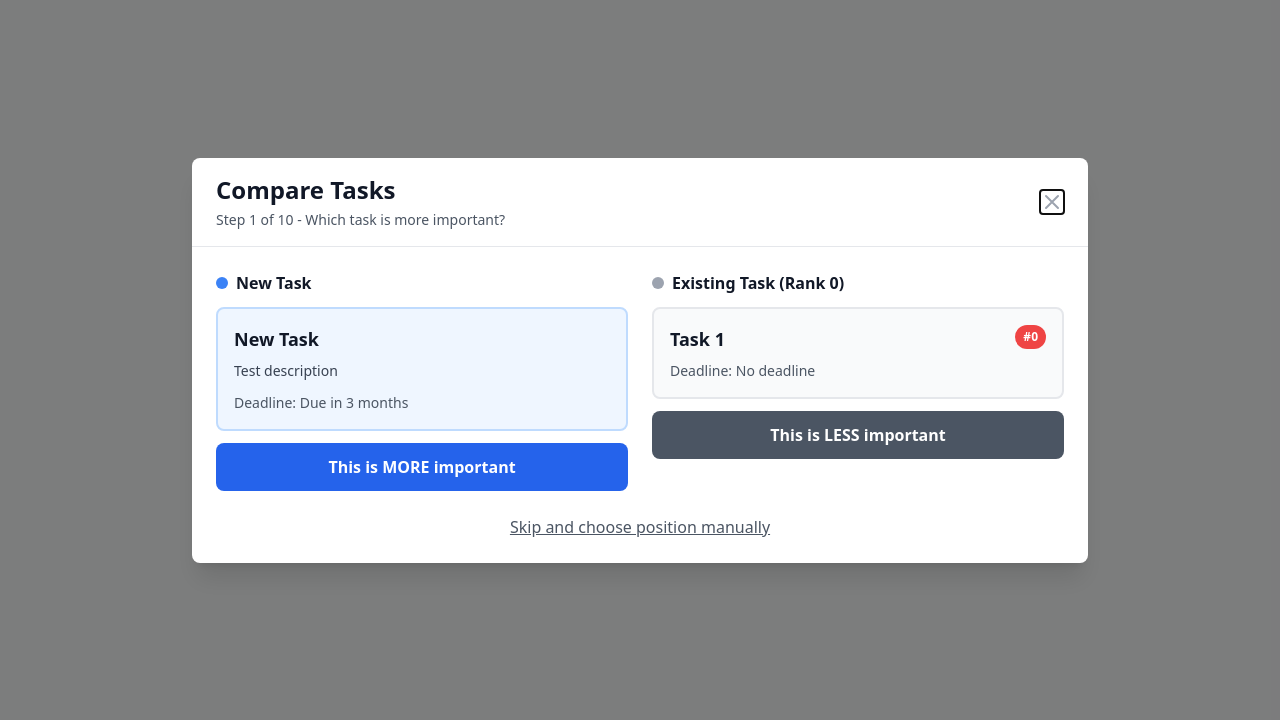
it: ComparisonModal Integration Tests › Comparison Workflow › should allow user to skip to manual placement
Expected: the heading "Compare Tasks" is shown, [216,172,396,206]
Click skip button
Click the button with test id "skip-button" at (640, 526), box [510,514,770,538]
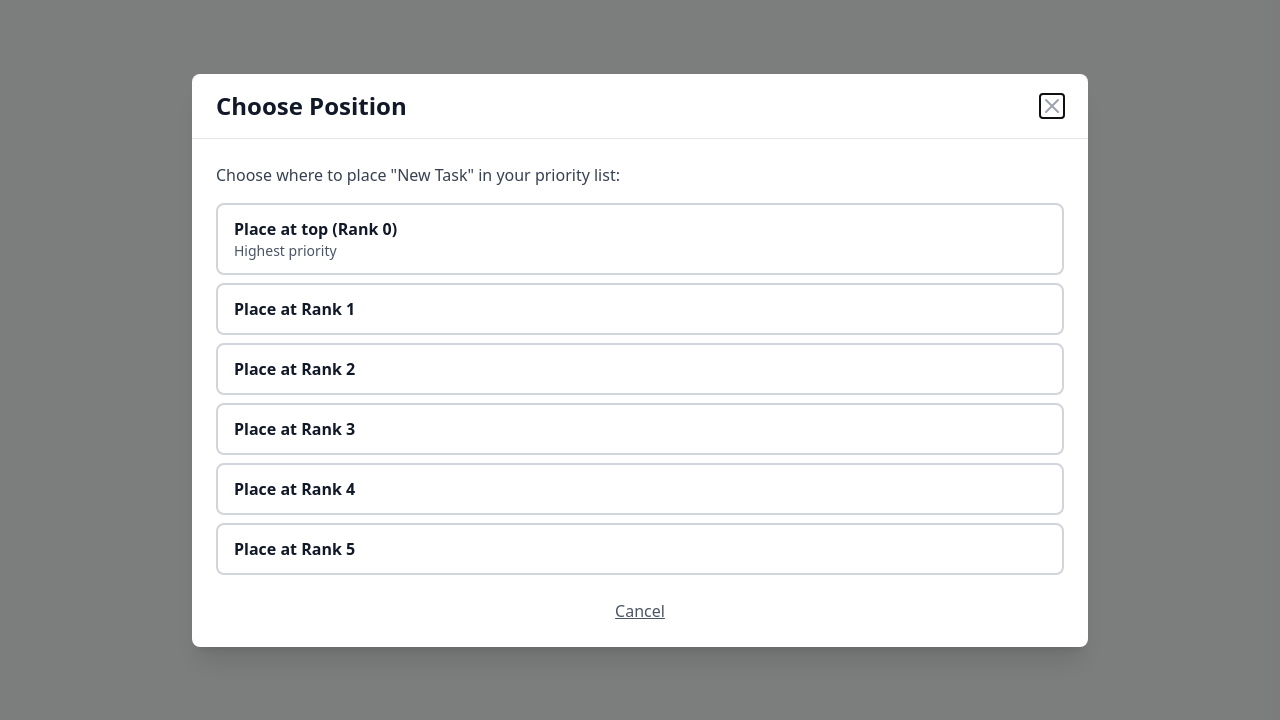
Expected: the heading "Choose Position" is shown, [216,90,407,122]
